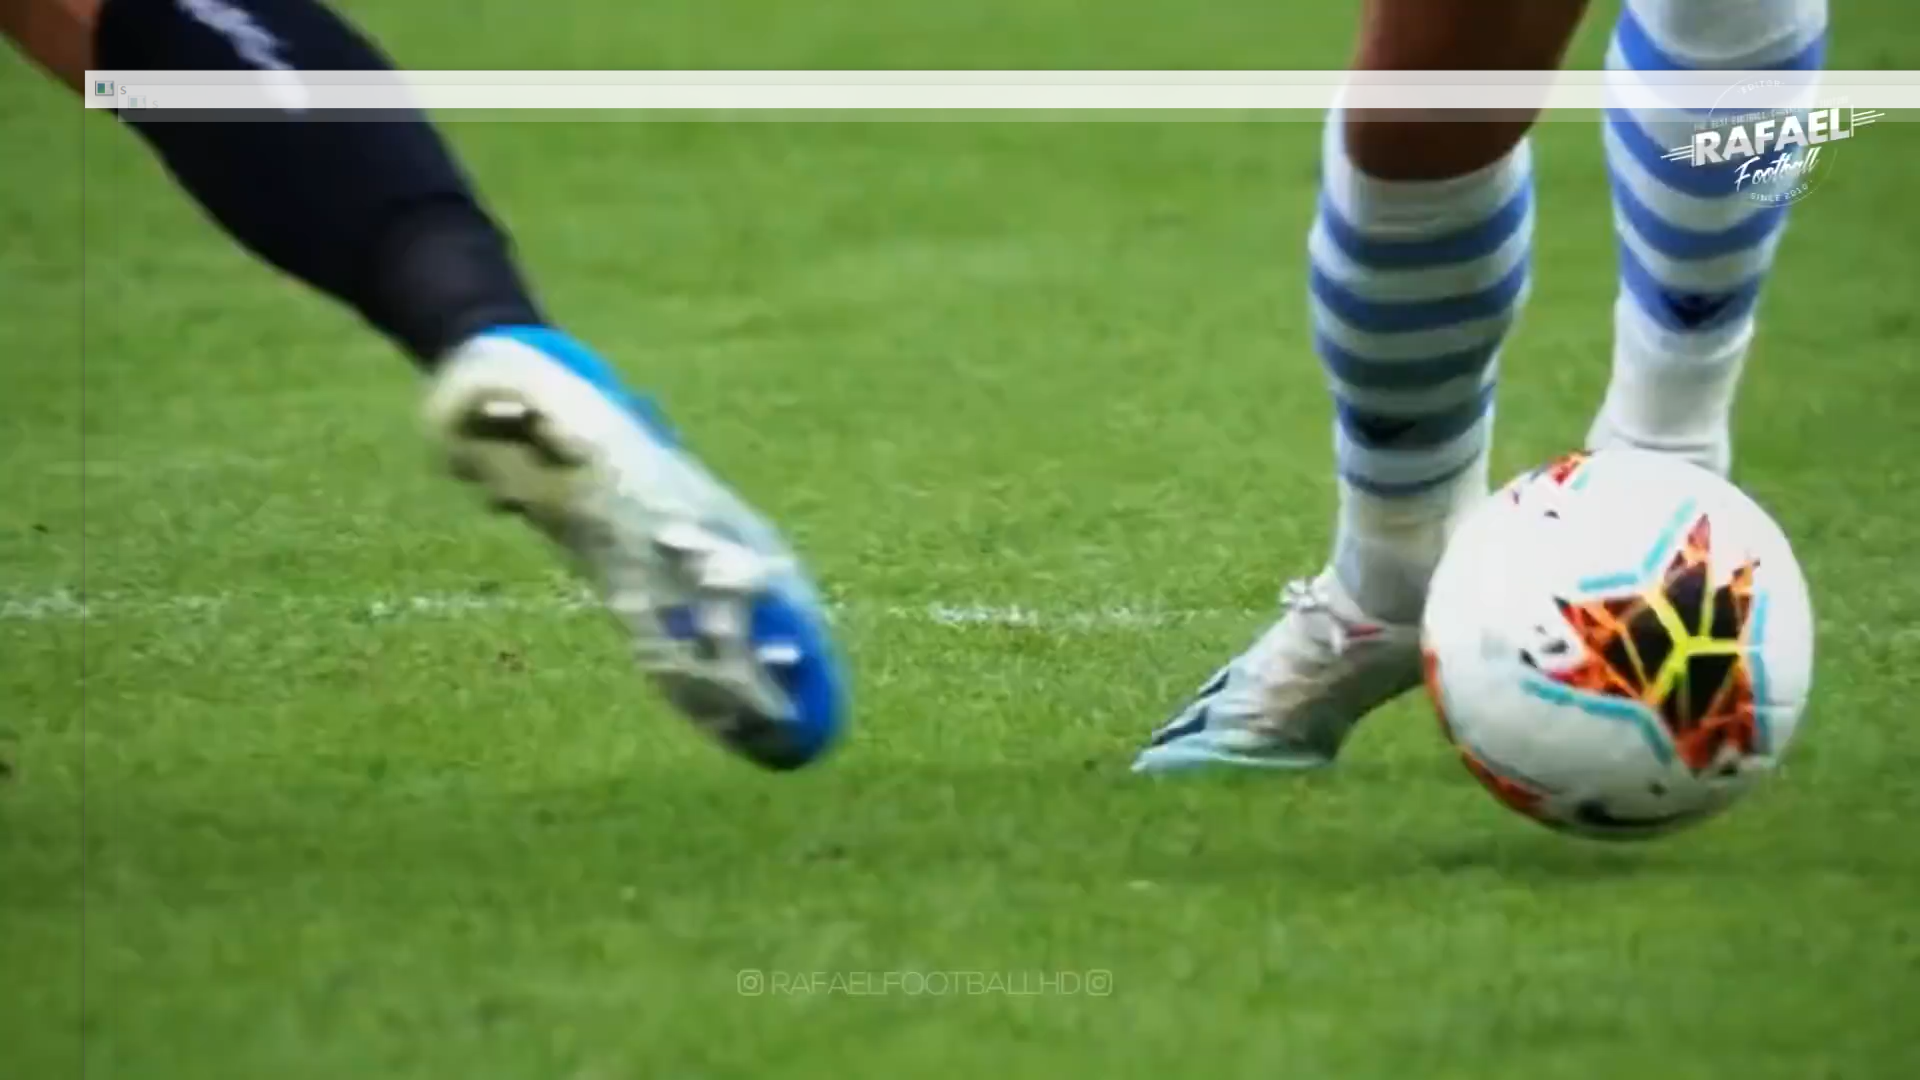ft: (1398, 436, 1830, 862)
